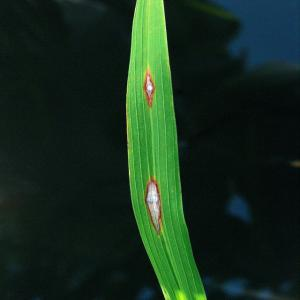Rice_Blast: (134, 164, 178, 241), (131, 58, 169, 106)
